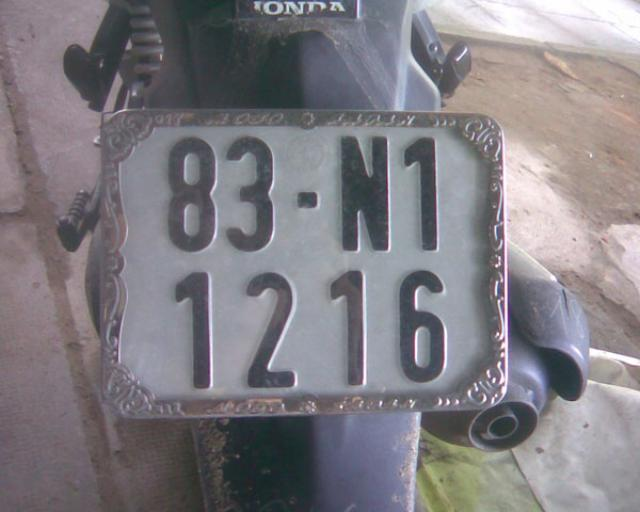plate: (97, 108, 505, 416)
